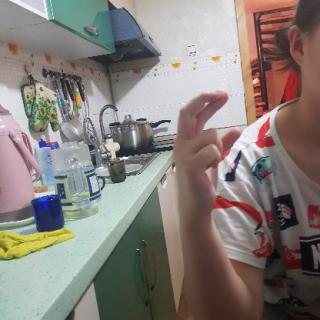DHELL: (165, 78, 236, 236)
